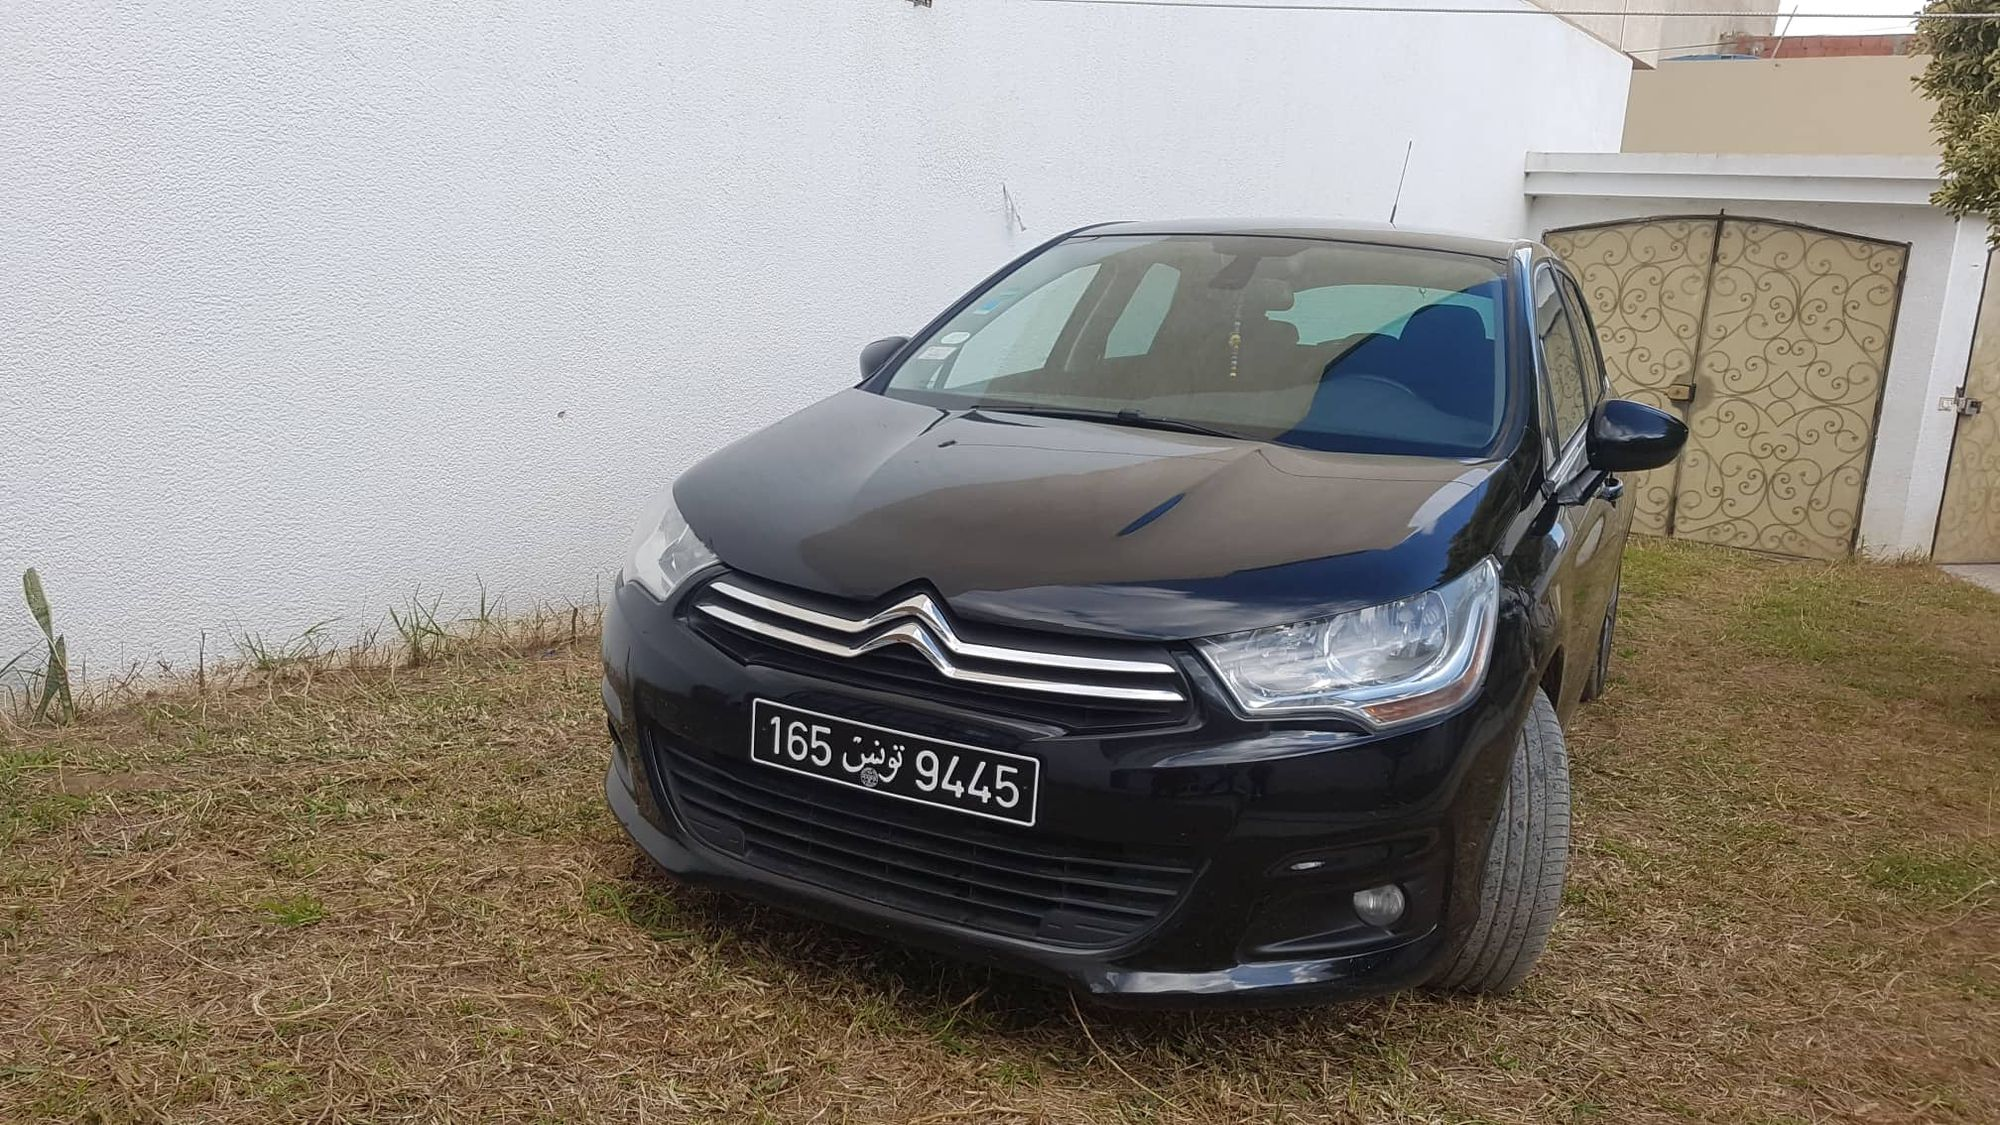LP: (750, 696, 1039, 830)
